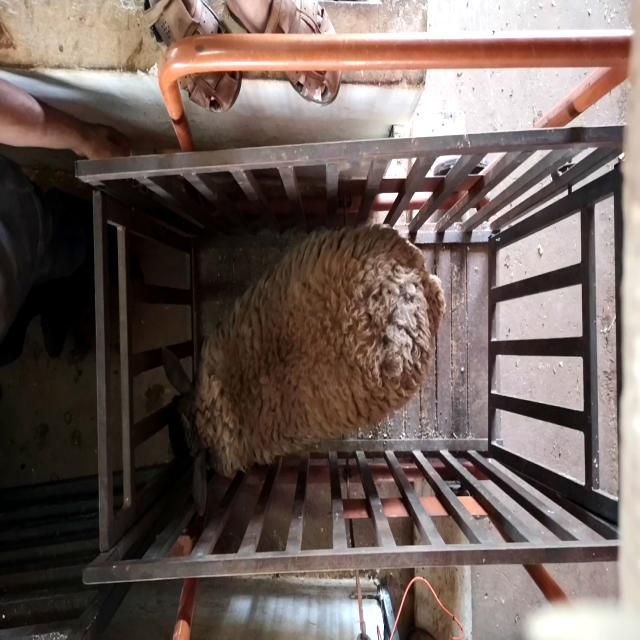sheep: (162, 224, 446, 518)
